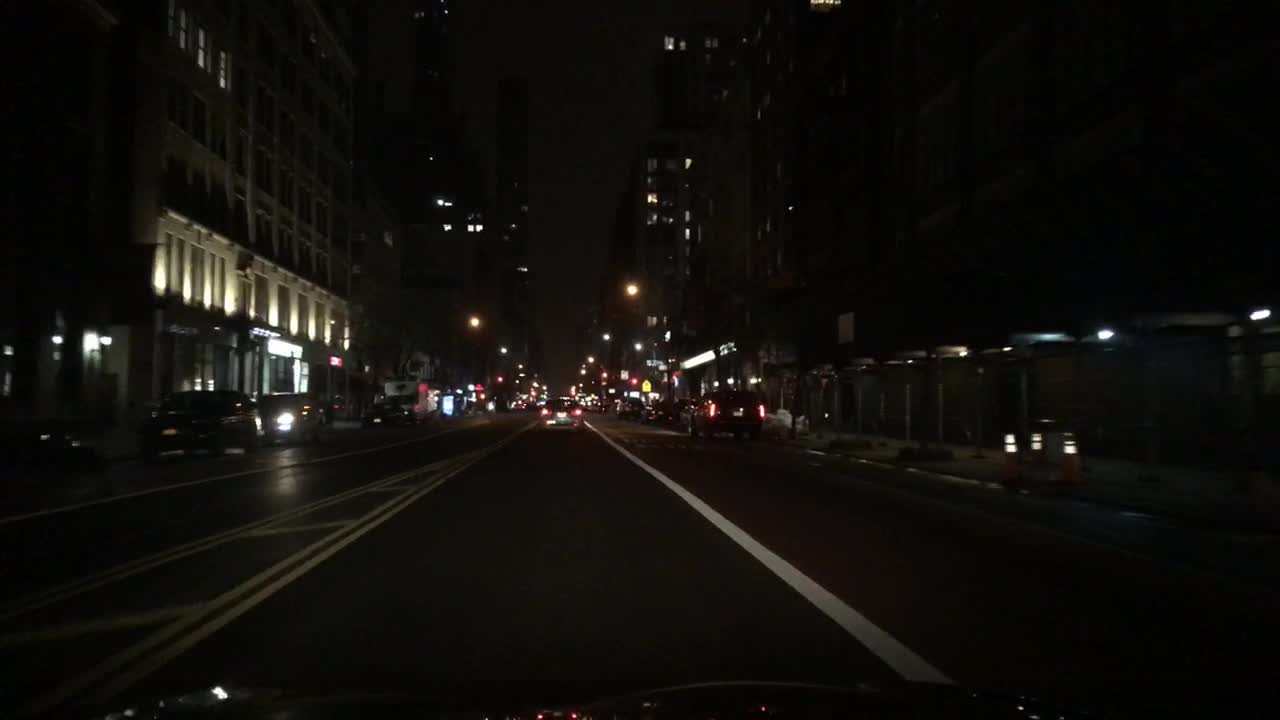car: (139, 389, 267, 457), (0, 419, 105, 478), (692, 385, 767, 435), (265, 394, 328, 439), (538, 396, 582, 430), (362, 403, 403, 426), (672, 390, 694, 430), (643, 396, 670, 426), (616, 396, 642, 419), (509, 399, 529, 412)
traffic light: (627, 376, 636, 390)
traffic sign: (617, 367, 630, 383), (642, 378, 652, 392)
truck: (385, 381, 428, 423)
